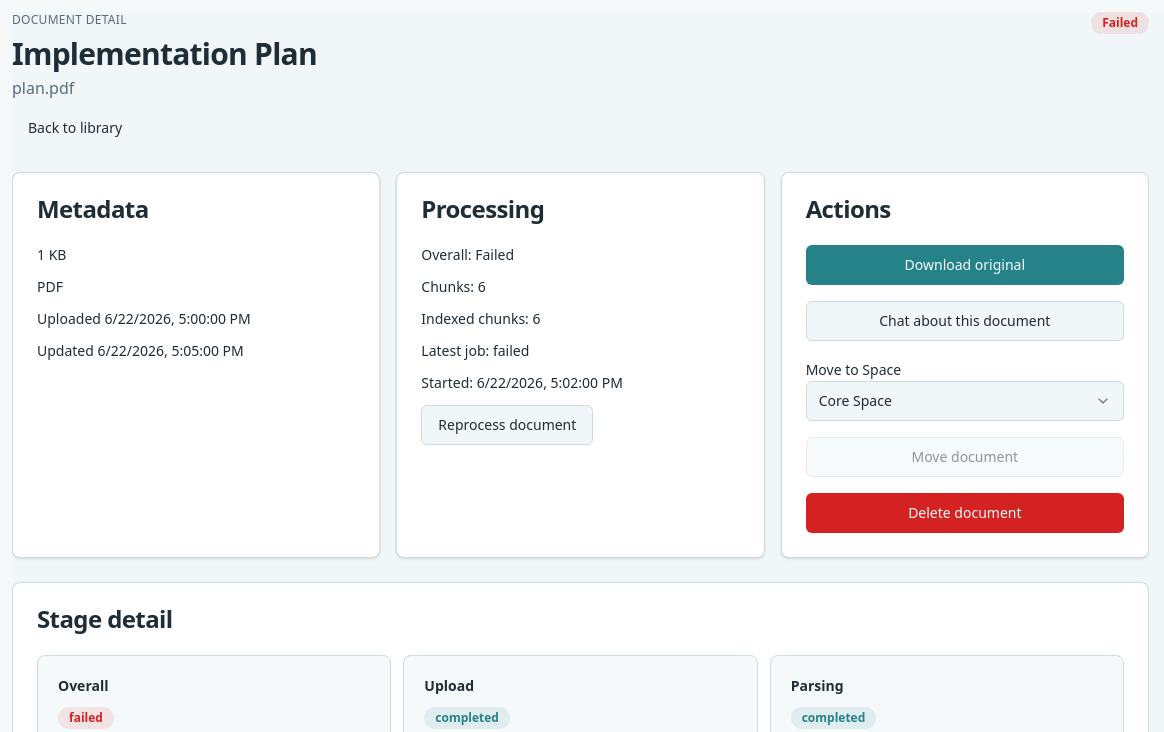
Test: DocumentsPage › reprocesses a failed document from the detail page
Check: the text "Overall: Failed" is shown, box [421,245,514,264]
Click the button "Reprocess document" at coordinates (507, 425), box [421,405,593,445]
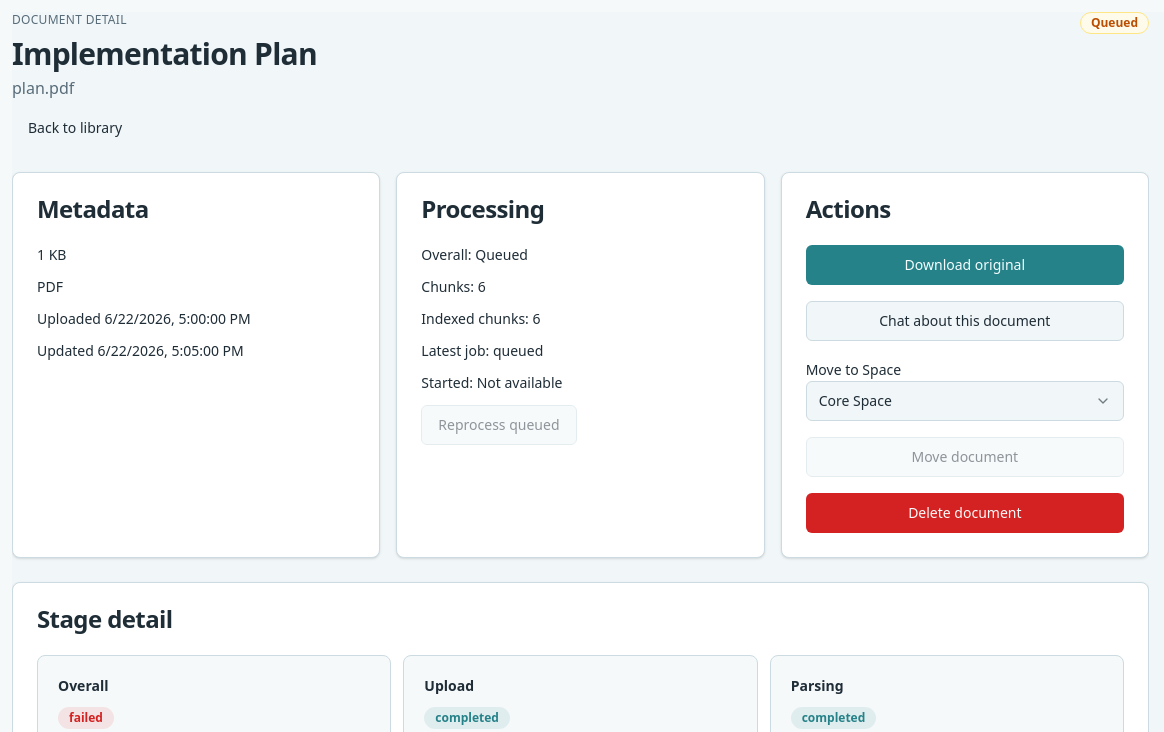
Check: the text "Overall: Queued" is shown, box [421,245,528,264]
Check: the text "Latest job: queued" is shown, box [421,341,543,360]
